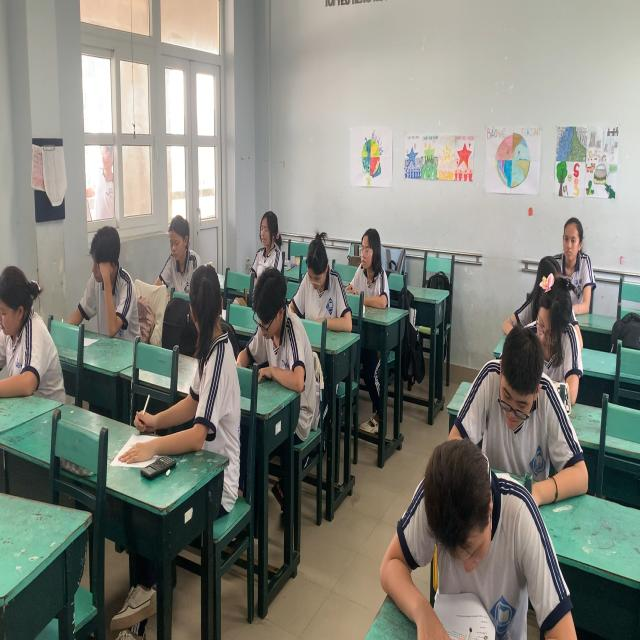cheating: (180, 261, 240, 468)
not_cheating: (377, 437, 515, 630), (460, 330, 568, 493), (513, 258, 583, 392), (68, 222, 138, 344), (0, 257, 50, 396), (248, 268, 307, 381), (558, 202, 602, 312), (301, 233, 352, 326), (340, 215, 387, 305), (159, 198, 204, 288), (239, 198, 291, 274)
